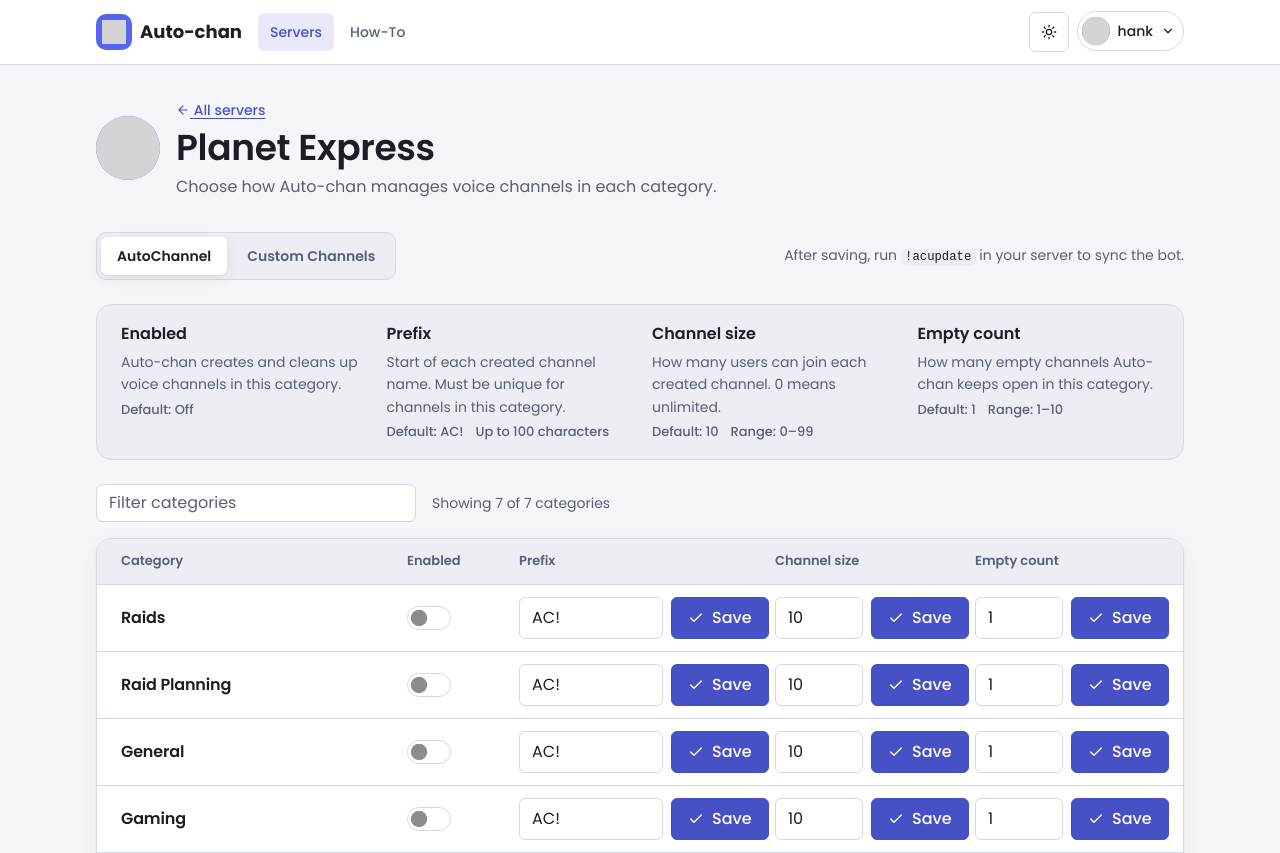
Test: App › filters a long category list by name
Step 1. Type "raid" into the search field labelled "Filter categories" → (256, 503), box [96,484,416,522]
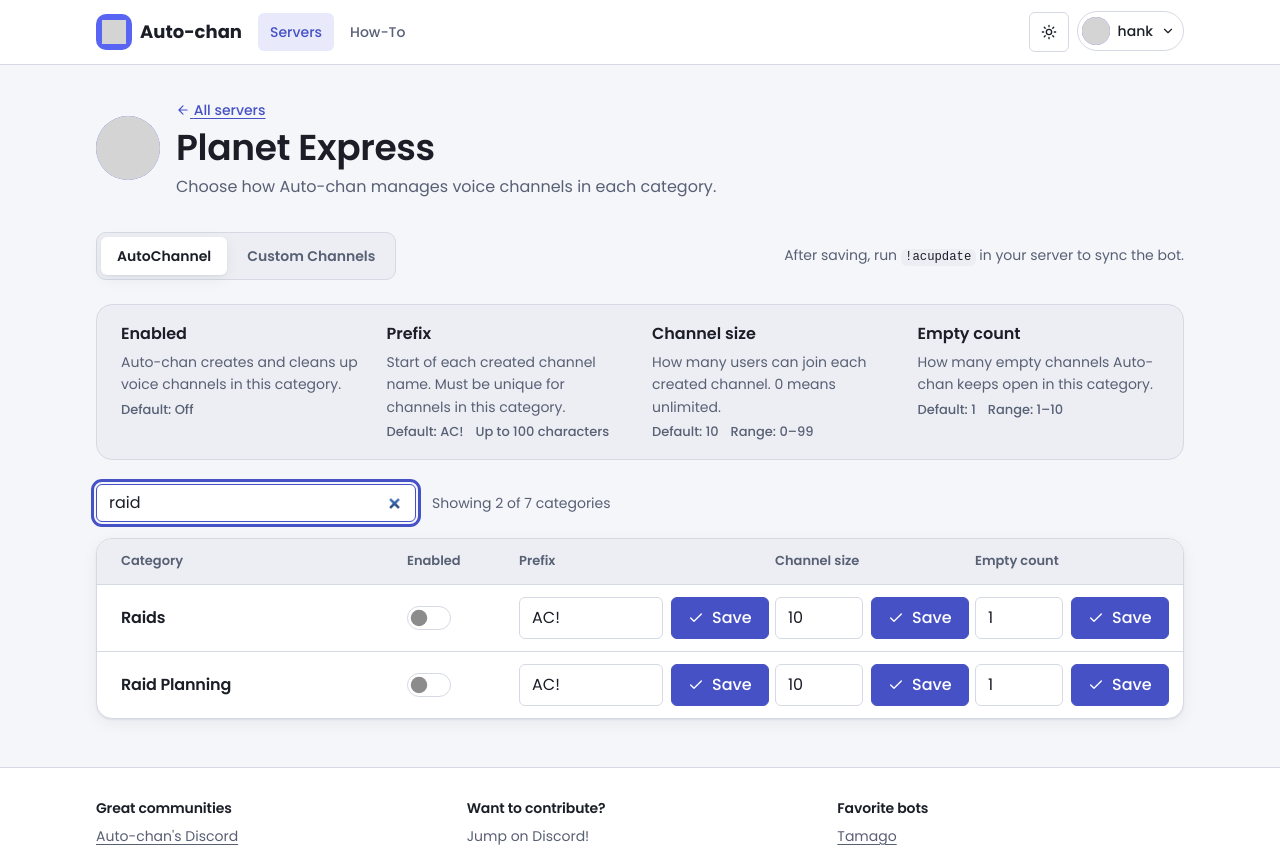
Expected: the switch named "Raids enabled" is shown, [407,606,451,630]
Expected: the text "Showing 2 of 7 categories" is shown, [432,492,611,514]
